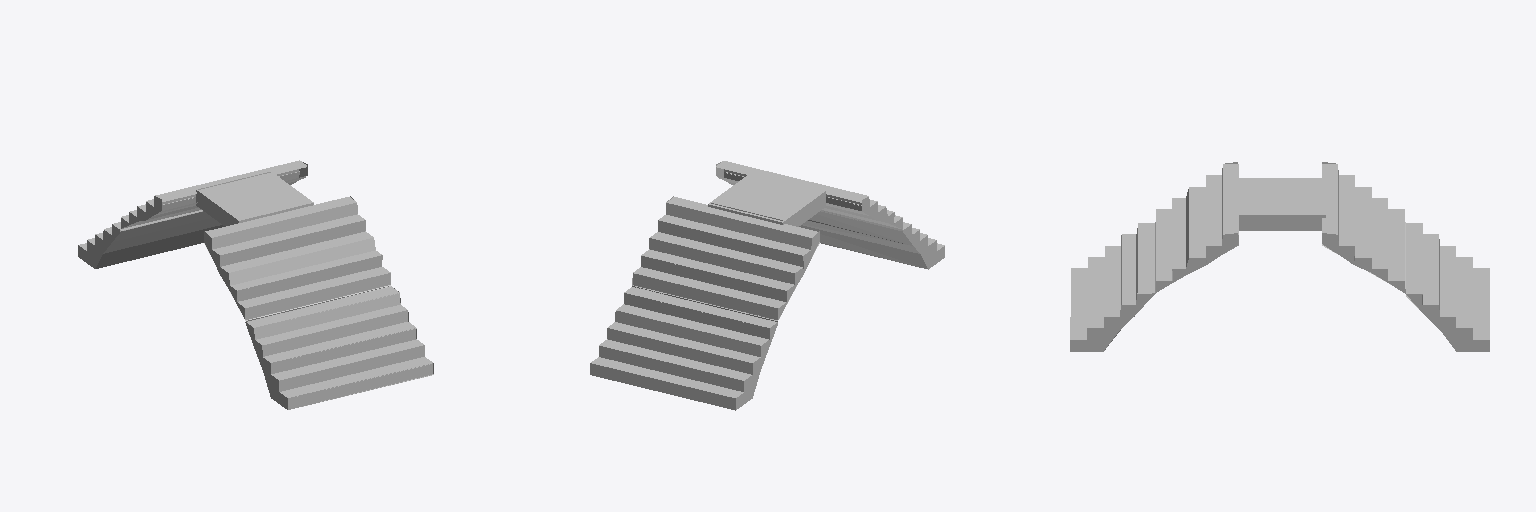
File: doublestairs.obj
3 views of the same model, side by side, from view 1: azimuth 30°, elevation 25°; view 2: azimuth 150°, elevation 25°; view 3: azimuth 270°, elevation 25° (orthographic).
Parts seen in each view (by area): view 1: stairs1, stairs2, box; view 2: stairs2, stairs1, box; view 3: stairs1, stairs2, box.
Boxes of the visible parts, <box> form: stairs1: <box>204,196,433,409</box>; stairs2: <box>78,160,307,268</box>; box: <box>196,171,313,226</box>; stairs2: <box>590,196,819,410</box>; stairs1: <box>716,161,944,269</box>; box: <box>708,173,825,226</box>; stairs1: <box>1070,162,1238,351</box>; stairs2: <box>1322,162,1489,351</box>; box: <box>1239,178,1325,230</box>.
Bounding box in the file's own units: 40 × 31.55 × 99.8.